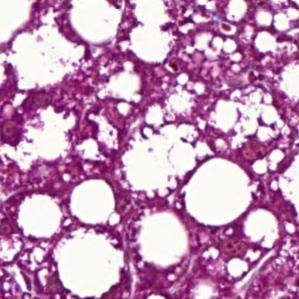steatosis: (186, 163, 250, 225), (69, 182, 123, 225)
